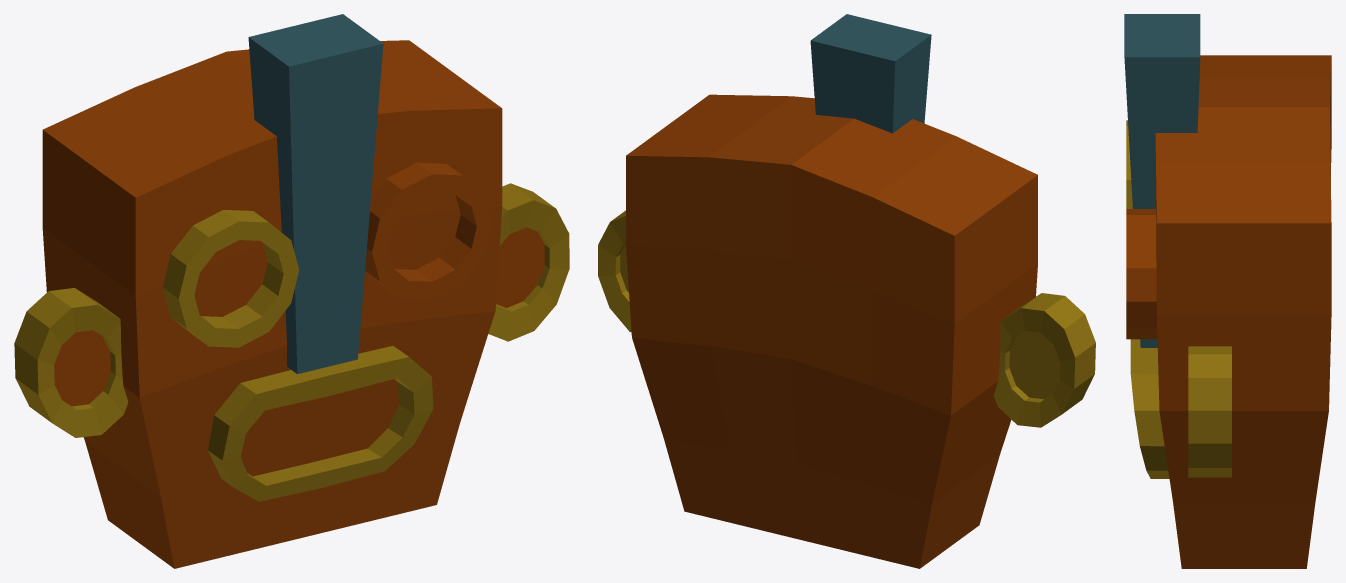
Rendered from caraadeco.fbx.
3 views of the same model, side by side, from view 1: azimuth 30°, elevation 25°; view 2: azimuth 150°, elevation 25°; view 3: azimuth 270°, elevation 25° (orthographic). The views are drawn at different scales.
Parts seen in each view (by area): view 1: decom mask; view 2: decom mask; view 3: decom mask.
Boxes of the visible parts, x1,y1,x2,y2 form: decom mask: (14, 14, 569, 568); decom mask: (598, 14, 1095, 568); decom mask: (1124, 14, 1331, 568).
Bounding box in the file's own units: 249 × 225 × 89.42.
